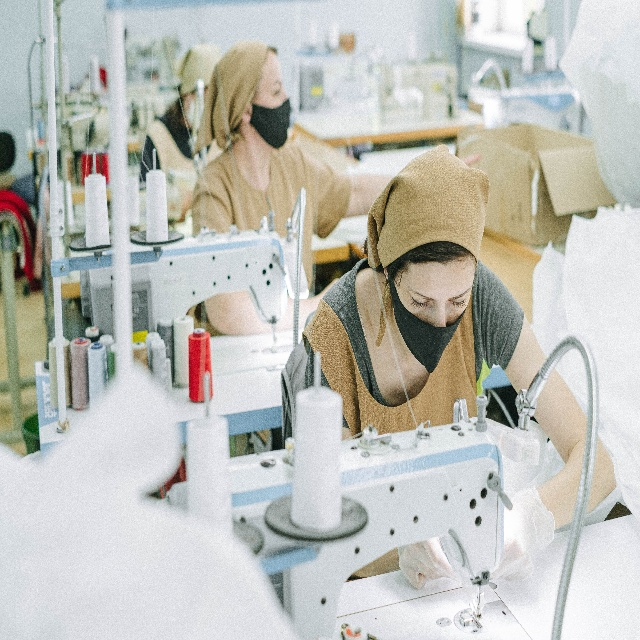Guantes: (488, 485, 556, 587), (395, 538, 457, 593)
Mascara: (385, 266, 468, 377), (249, 95, 293, 152)
